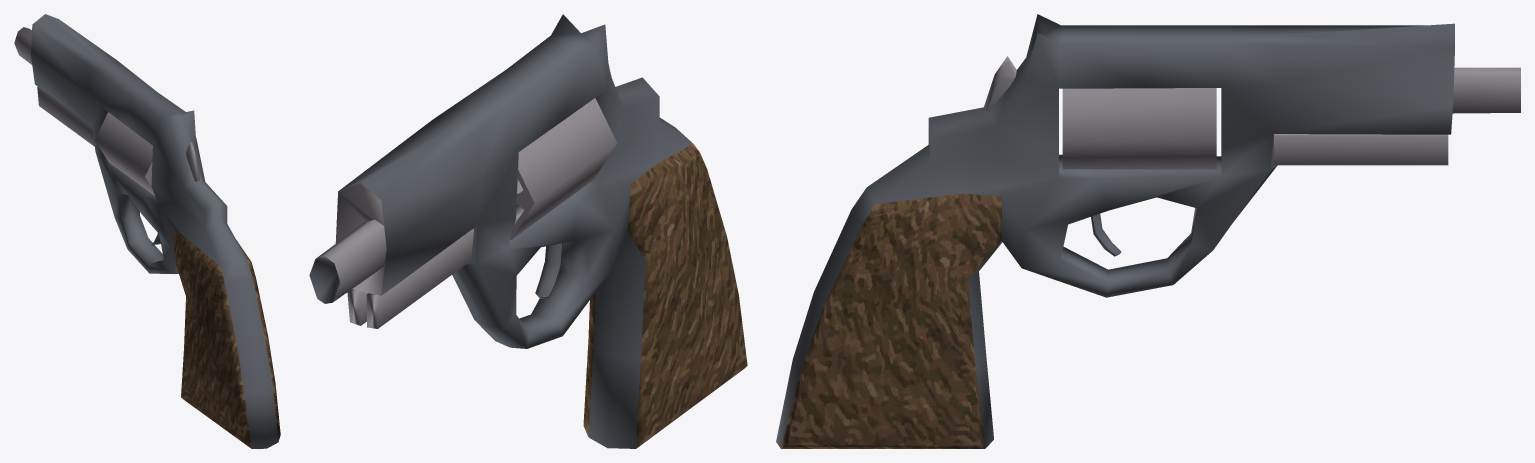
Rendered from bonbo-revolver.glb.
3 views of the same model, side by side, from view 1: azimuth 30°, elevation 25°; view 2: azimuth 150°, elevation 25°; view 3: azimuth 270°, elevation 25° (orthographic). The views are drawn at different scales.
Parts seen in each view (by area): view 1: bonborevolver-base, bonborevolver-cylinder, bonborevolver-hammer; view 2: bonborevolver-base, bonborevolver-cylinder; view 3: bonborevolver-base, bonborevolver-cylinder, bonborevolver-hammer.
Boxes of the visible parts, box(x1,y1,x2,y2) form: bonborevolver-base: box(14, 14, 280, 448); bonborevolver-cylinder: box(95, 112, 154, 195); bonborevolver-hammer: box(186, 142, 199, 181); bonborevolver-base: box(309, 14, 747, 448); bonborevolver-cylinder: box(510, 98, 616, 239); bonborevolver-base: box(776, 14, 1520, 448); bonborevolver-cylinder: box(1062, 88, 1216, 169); bonborevolver-hammer: box(984, 56, 1016, 110).
Size of the model in its own units: 0.0888 by 0.4088 by 0.6599.
Materials: 3 (1 with a texture image).
